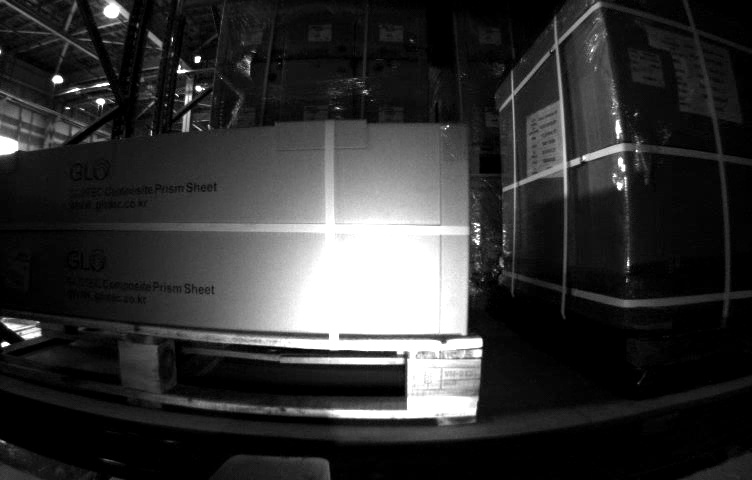True Barcode: (630, 46, 664, 89)
